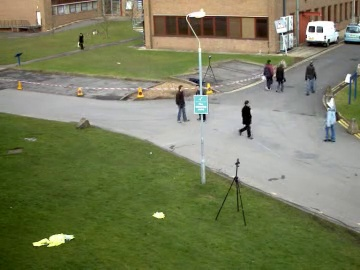person: (174, 85, 189, 122), (175, 86, 190, 123)
